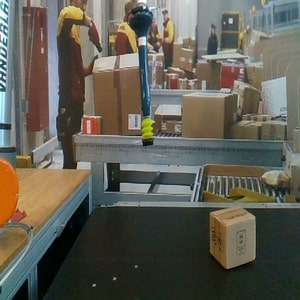box: (209, 205, 257, 270)
